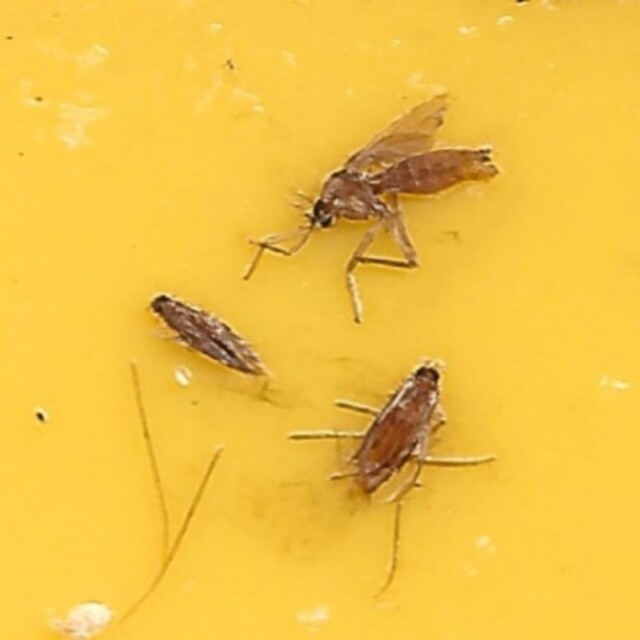Nematocera: (303, 141, 497, 237)
Trichoptera: (343, 355, 446, 499), (143, 290, 267, 379)
